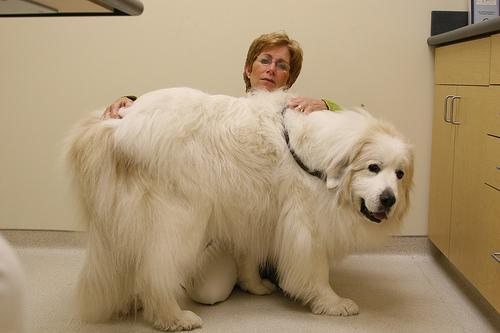Great_Pyrenees: (64, 88, 415, 329)
